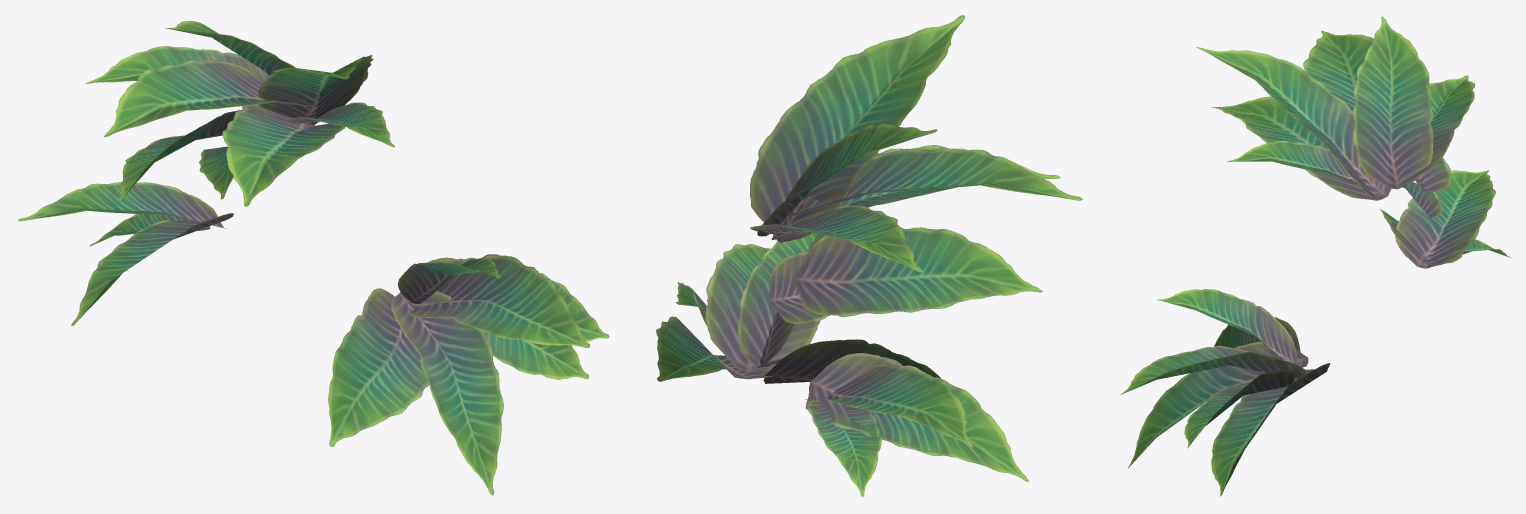
File: Map_07_grass02.FBX
3 views of the same model, side by side, from view 1: azimuth 30°, elevation 25°; view 2: azimuth 150°, elevation 25°; view 3: azimuth 270°, elevation 25° (orthographic). The views are drawn at different scales.
Parts seen in each view (by area): view 1: Map_07_grass02; view 2: Map_07_grass02; view 3: Map_07_grass02.
Boxes of the visible parts, x1,y1,x2,y2 form: Map_07_grass02: [18, 21, 609, 495]; Map_07_grass02: [656, 15, 1082, 497]; Map_07_grass02: [1120, 16, 1510, 496].
Bounding box in the file's own units: 210 × 193 × 181.
Materials: 1 (1 with a texture image).
